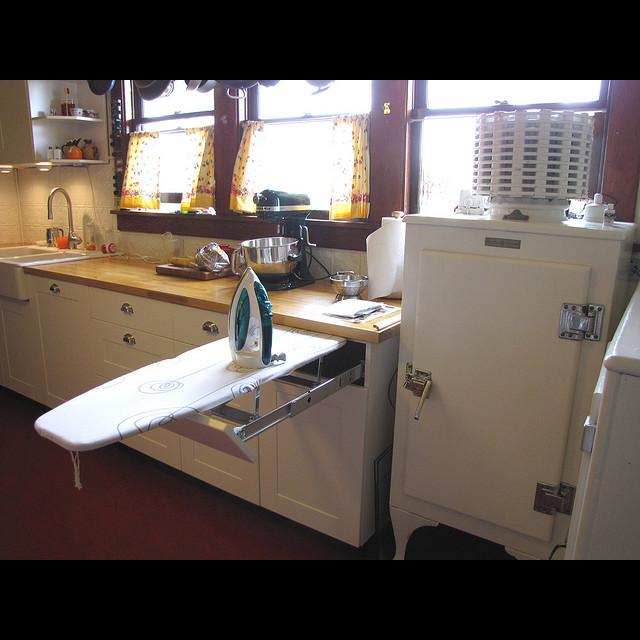Refrigerator: (386, 214, 637, 547)
